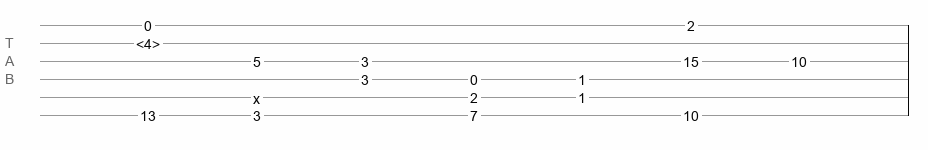0: (144, 18, 152, 28), (470, 72, 478, 82)
1: (578, 90, 586, 100), (578, 72, 586, 82)
10: (683, 108, 699, 118), (791, 54, 807, 64)
13: (140, 108, 156, 118)
15: (683, 54, 699, 64)
2: (470, 90, 478, 100), (687, 18, 695, 28)
3: (253, 108, 261, 118), (361, 54, 369, 64), (361, 72, 369, 82)
5: (253, 54, 261, 64)
7: (470, 108, 478, 118)
harmonic: (136, 36, 160, 46)
x: (253, 91, 260, 99)
